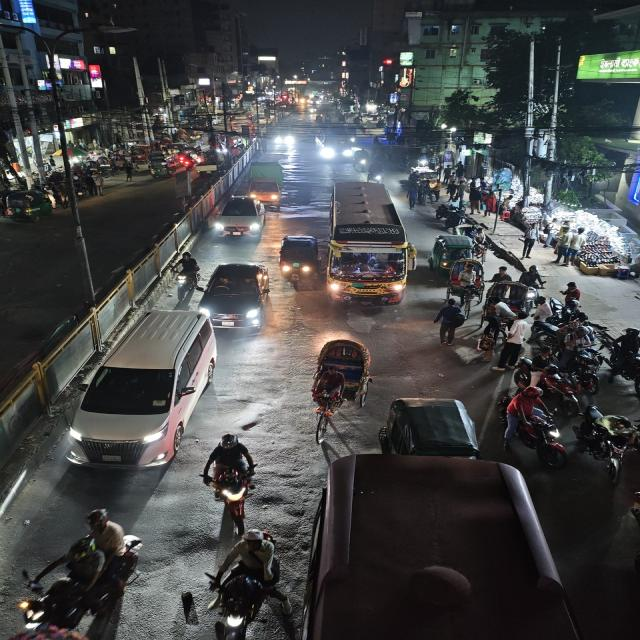bus: (329, 180, 415, 305)
car: (69, 305, 221, 472), (200, 258, 273, 339), (211, 194, 267, 238)
cng: (388, 392, 481, 460), (277, 233, 322, 282), (428, 233, 471, 277)
motorcycle: (16, 510, 148, 640), (201, 522, 277, 640), (500, 382, 578, 472), (208, 435, 261, 523), (169, 247, 201, 299)
pedestrian: (499, 310, 537, 376), (433, 296, 469, 346)
pickup_van: (245, 157, 285, 208)
rickshaw: (308, 335, 373, 437)
